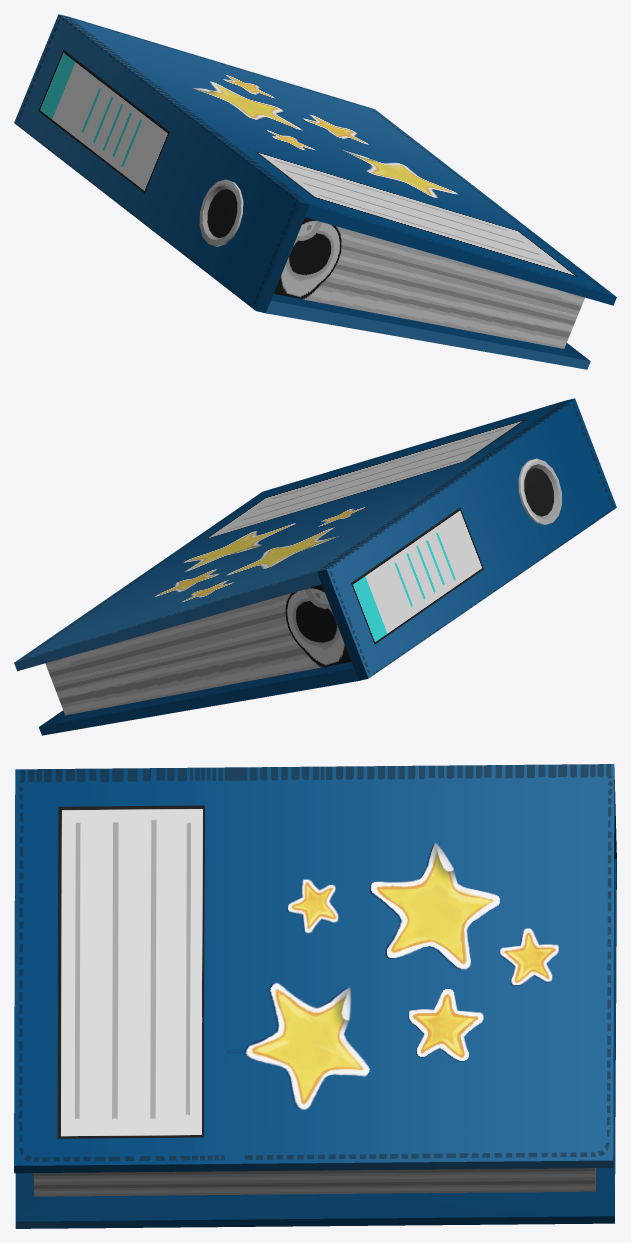
Rendered from Binder_Stars.fbx.
3 views of the same model, one above another, from view 1: azimuth 30°, elevation 25°; view 2: azimuth 150°, elevation 25°; view 3: azimuth 270°, elevation 25° (orthographic). The views are drawn at different scales.
Visible parts, largest first — view 1: Binder_low; view 2: Binder_low; view 3: Binder_low.
Boxes of the visible parts, bbox=[...] form: Binder_low: bbox=[14, 14, 616, 369]; Binder_low: bbox=[14, 398, 616, 735]; Binder_low: bbox=[14, 764, 616, 1228].
Bounding box in the file's own units: 1158 × 743 × 1366.
1 material, 1 textured.
